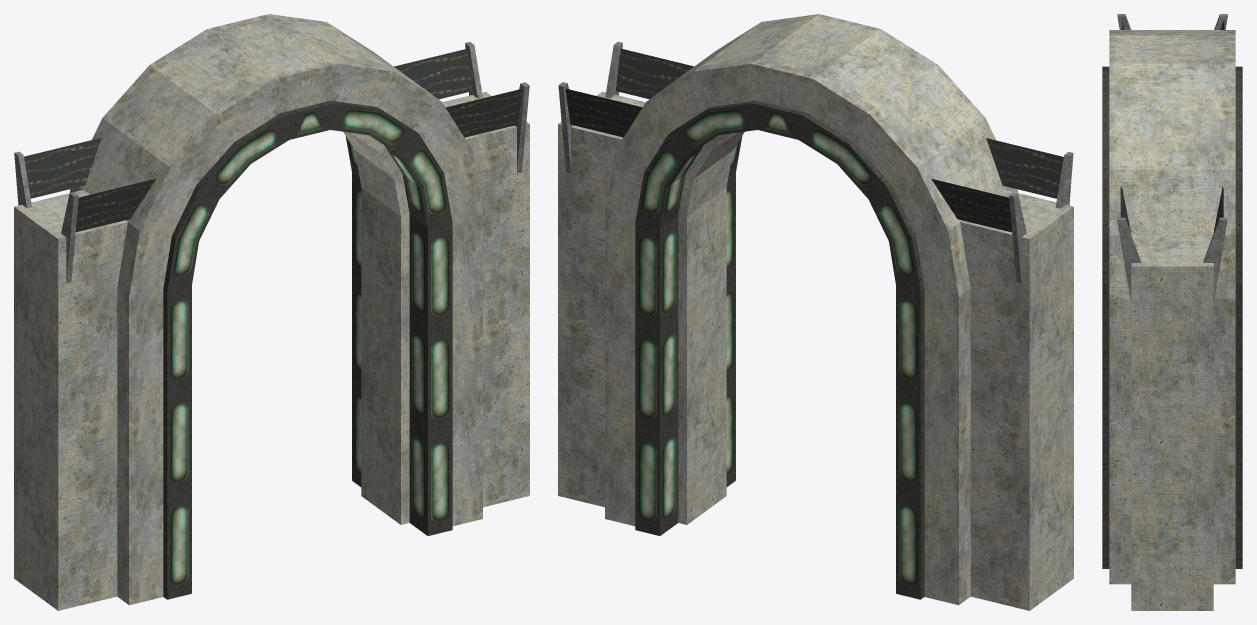
Rendered from thm_corl_imprv_gate_sm_s04_l0.fbx.
3 renders of one model, left to right at view 1: azimuth 30°, elevation 25°; view 2: azimuth 150°, elevation 25°; view 3: azimuth 270°, elevation 25°, orthographic. The views are drawn at different scales.
Parts seen in each view (by area): view 1: mesh_node; view 2: mesh_node; view 3: mesh_node.
Part boxes in pixels (x1,y1,x2,y2): mesh_node: [14, 14, 529, 610]; mesh_node: [558, 14, 1073, 610]; mesh_node: [1102, 14, 1242, 610].
Size of the model in its own units: 8 by 7.95 by 2.23.
